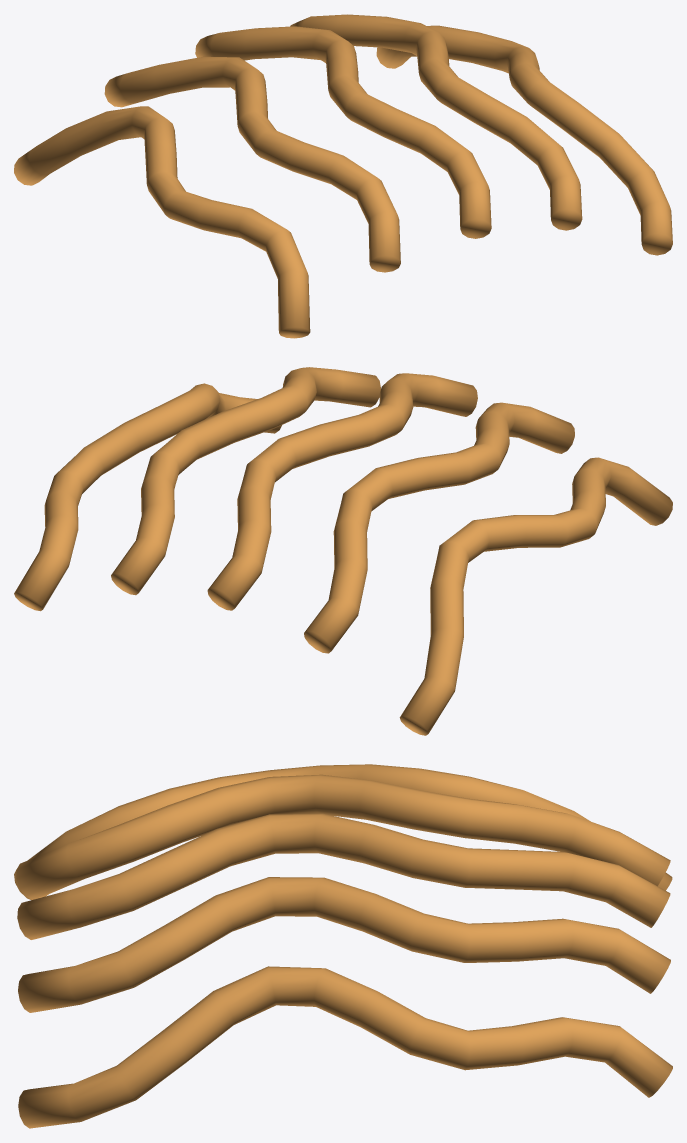
Rendered from Caramel_sauce_serving_layer.fbx.
3 renders of one model, top to bottom at view 1: azimuth 30°, elevation 25°; view 2: azimuth 150°, elevation 25°; view 3: azimuth 270°, elevation 25°, orthographic. The views are drawn at different scales.
Visible parts, largest first — view 1: Toon_Caramel_sauce_serving_layer Sauce drizzle.005, Toon_Caramel_sauce_serving_layer Sauce drizzle.006, Toon_Caramel_sauce_serving_layer Sauce drizzle.007, Toon_Caramel_sauce_serving_layer Sauce drizzle.008, Toon_Caramel_sauce_serving_layer Sauce drizzle.009; view 2: Toon_Caramel_sauce_serving_layer Sauce drizzle.005, Toon_Caramel_sauce_serving_layer Sauce drizzle.006, Toon_Caramel_sauce_serving_layer Sauce drizzle.007, Toon_Caramel_sauce_serving_layer Sauce drizzle.008, Toon_Caramel_sauce_serving_layer Sauce drizzle.009; view 3: Toon_Caramel_sauce_serving_layer Sauce drizzle.009, Toon_Caramel_sauce_serving_layer Sauce drizzle.008, Toon_Caramel_sauce_serving_layer Sauce drizzle.007, Toon_Caramel_sauce_serving_layer Sauce drizzle.006, Toon_Caramel_sauce_serving_layer Sauce drizzle.005.
Boxes of the visible parts, left/top/right/bottom form: Toon_Caramel_sauce_serving_layer Sauce drizzle.005: left=14, top=106, right=310, bottom=338; Toon_Caramel_sauce_serving_layer Sauce drizzle.006: left=104, top=56, right=400, bottom=272; Toon_Caramel_sauce_serving_layer Sauce drizzle.007: left=195, top=26, right=491, bottom=238; Toon_Caramel_sauce_serving_layer Sauce drizzle.008: left=290, top=14, right=582, bottom=230; Toon_Caramel_sauce_serving_layer Sauce drizzle.009: left=376, top=25, right=672, bottom=255; Toon_Caramel_sauce_serving_layer Sauce drizzle.005: left=399, top=457, right=672, bottom=735; Toon_Caramel_sauce_serving_layer Sauce drizzle.006: left=304, top=402, right=574, bottom=653; Toon_Caramel_sauce_serving_layer Sauce drizzle.007: left=207, top=373, right=477, bottom=610; Toon_Caramel_sauce_serving_layer Sauce drizzle.008: left=111, top=367, right=380, bottom=595; Toon_Caramel_sauce_serving_layer Sauce drizzle.009: left=14, top=383, right=281, bottom=611; Toon_Caramel_sauce_serving_layer Sauce drizzle.009: left=18, top=966, right=672, bottom=1128; Toon_Caramel_sauce_serving_layer Sauce drizzle.008: left=18, top=877, right=670, bottom=1012; Toon_Caramel_sauce_serving_layer Sauce drizzle.007: left=17, top=813, right=670, bottom=939; Toon_Caramel_sauce_serving_layer Sauce drizzle.006: left=16, top=774, right=670, bottom=899; Toon_Caramel_sauce_serving_layer Sauce drizzle.005: left=14, top=764, right=672, bottom=899.
Size of the model in its own units: 7.66 by 2.72 by 7.93.
